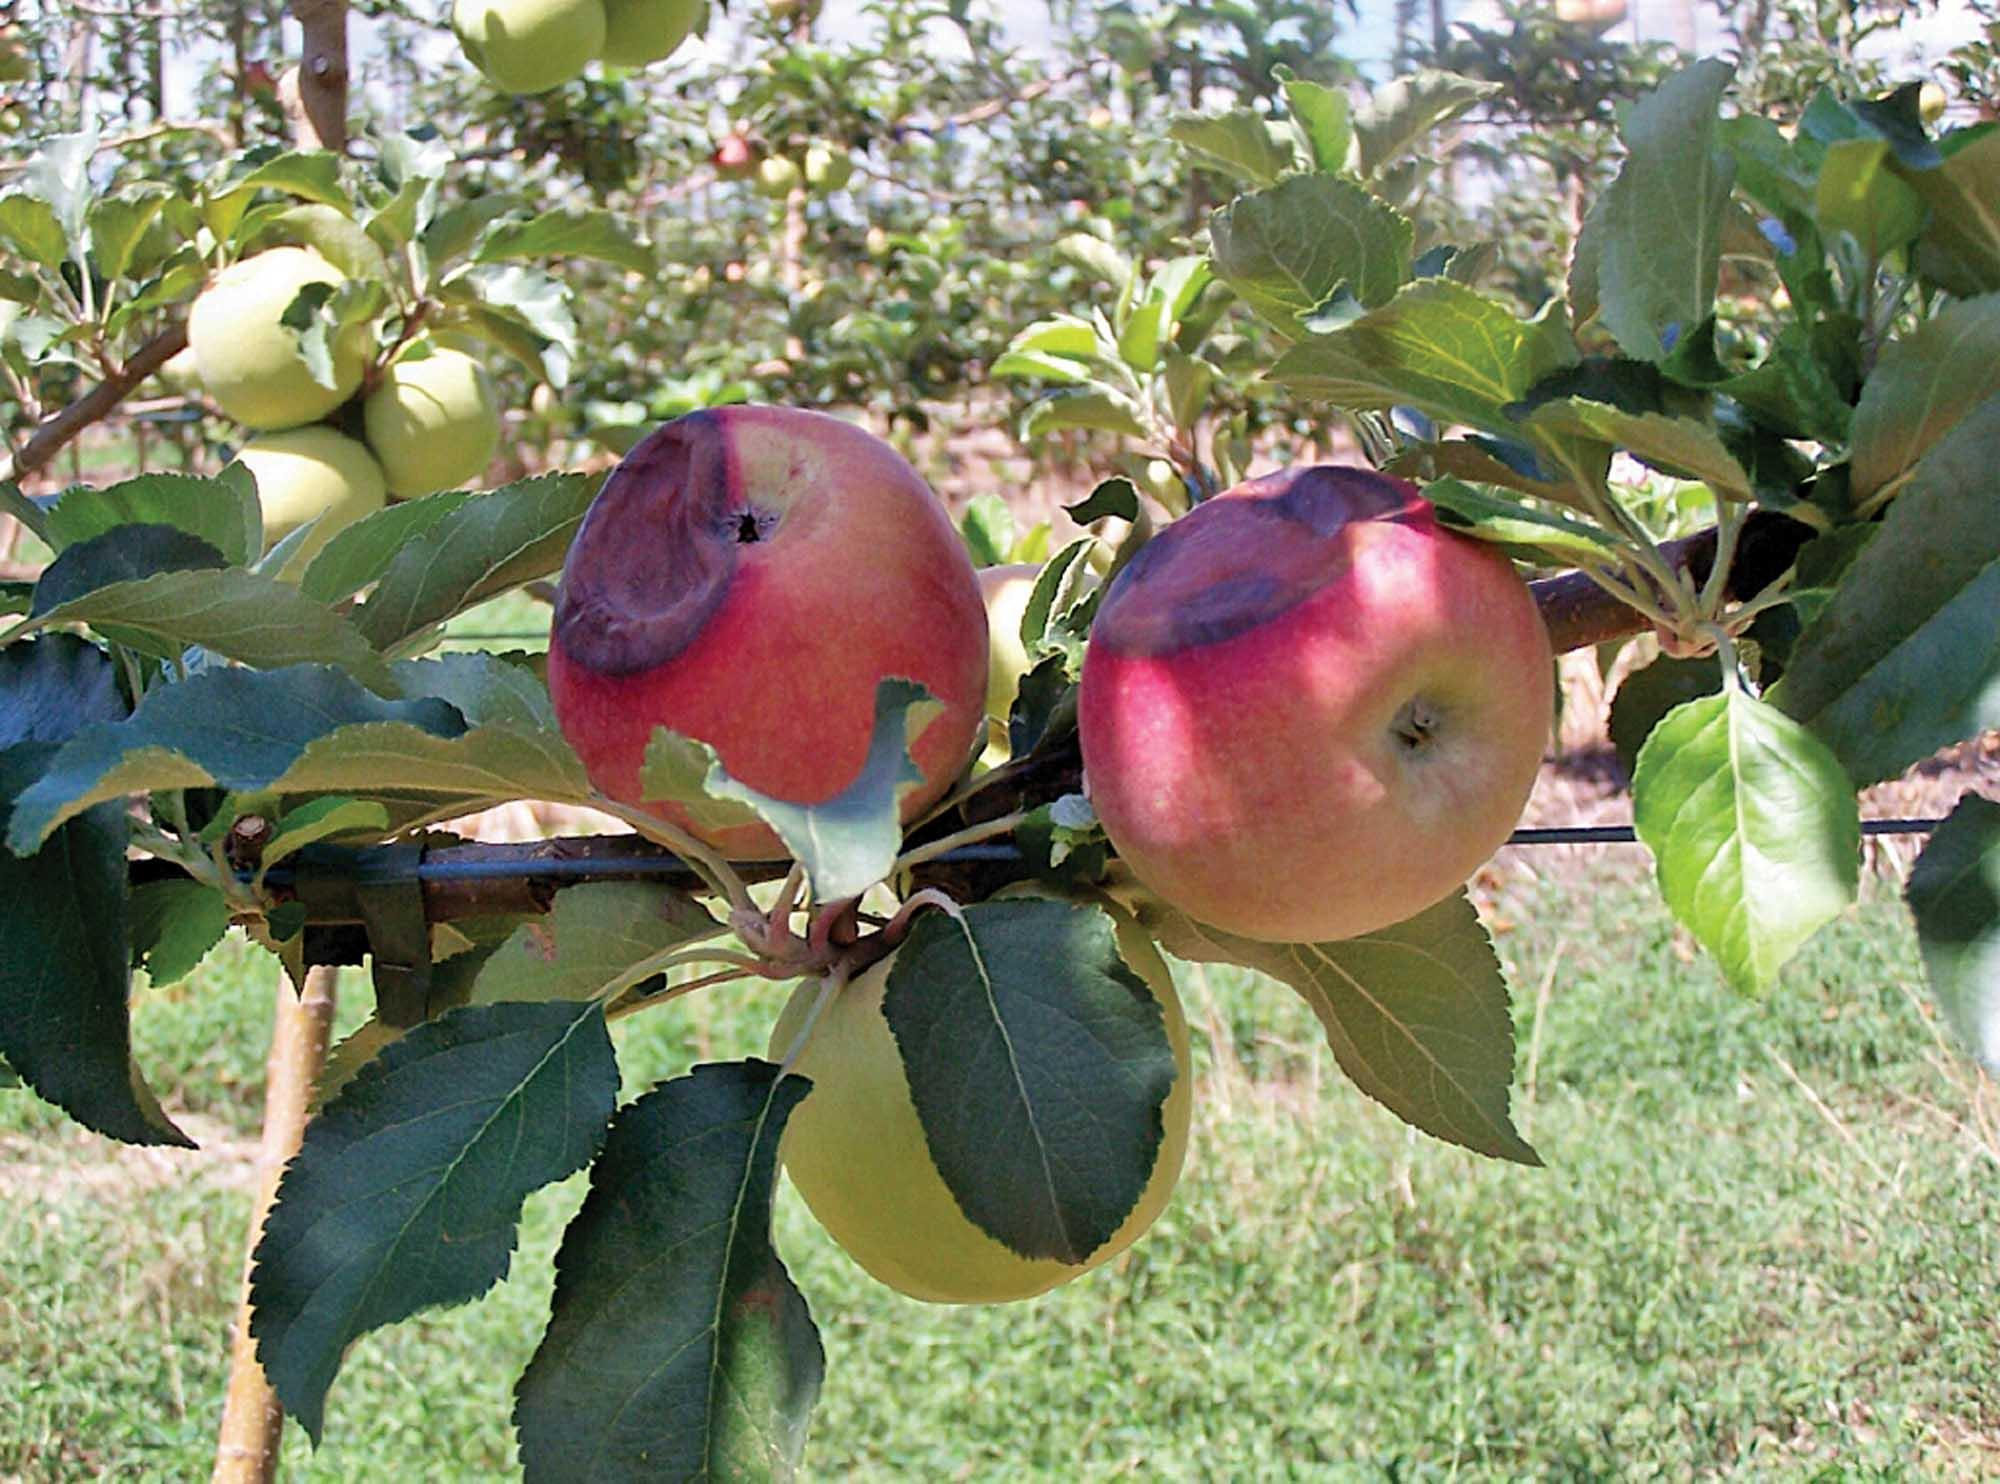apple: (1074, 475, 1560, 959), (550, 383, 998, 884), (187, 246, 357, 433), (359, 344, 500, 494)
